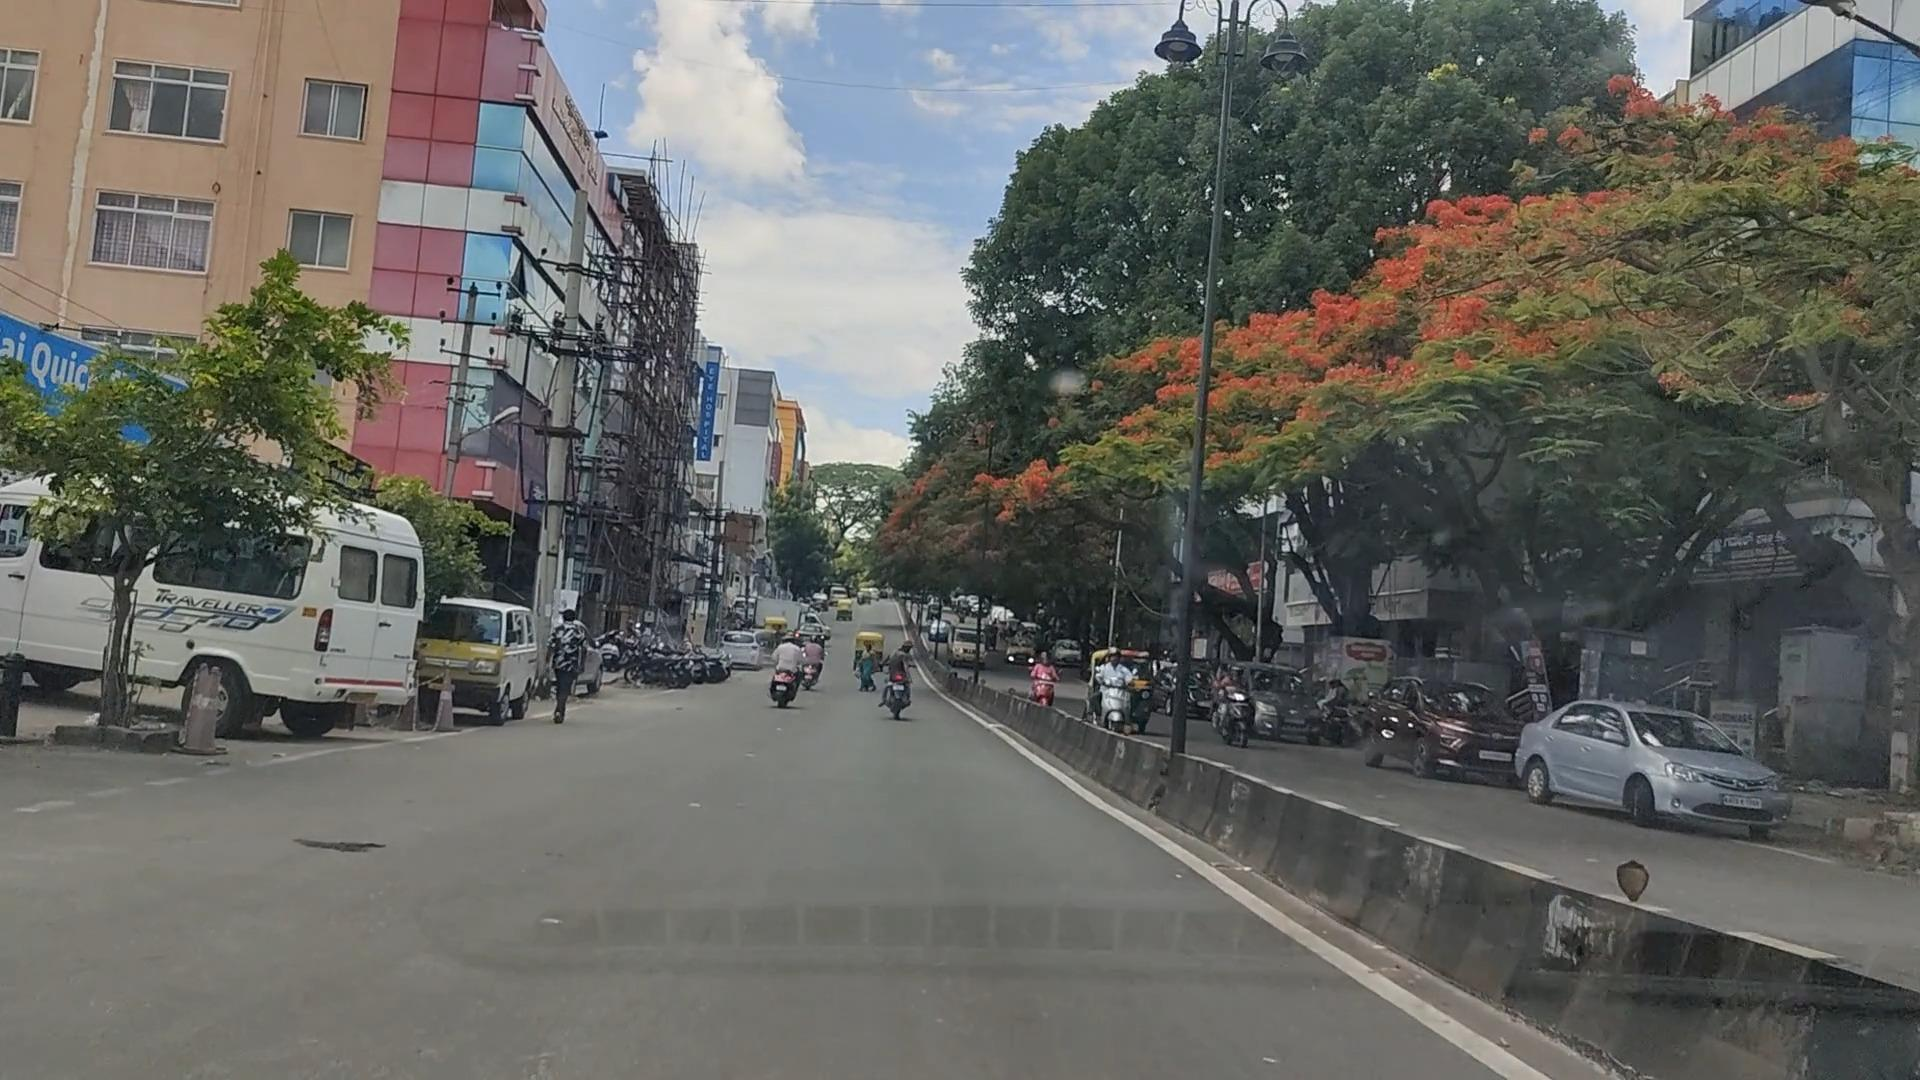RoadDamages: (281, 818, 403, 868)
